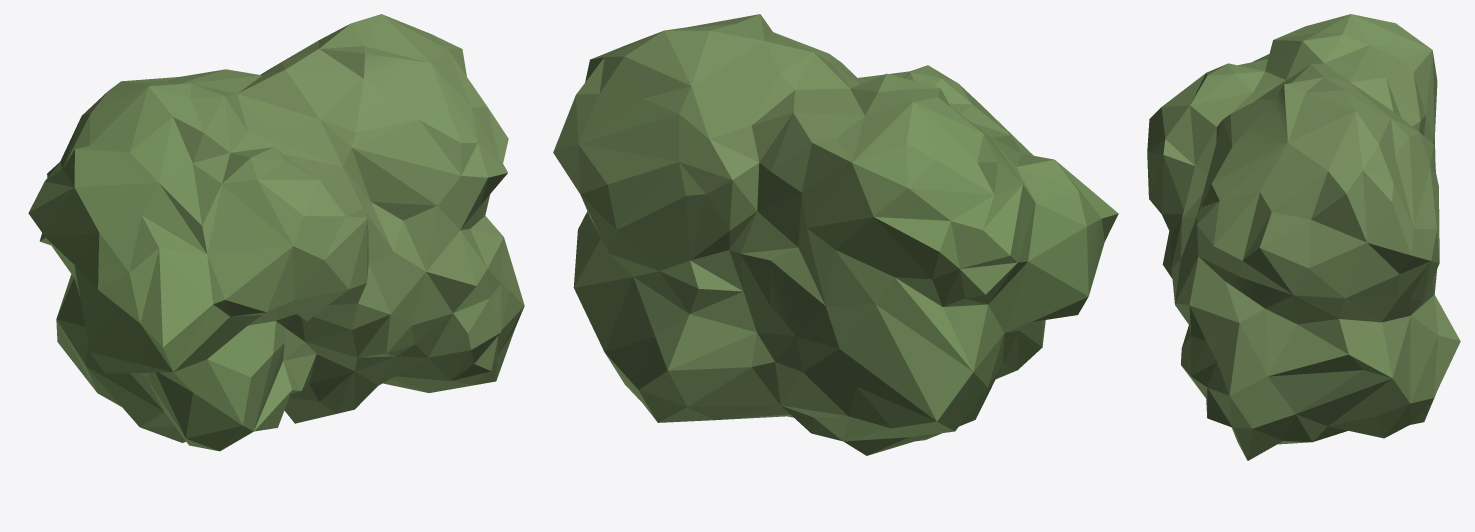
Rendered from elven_SM_Env_Hedge_Shrub_02.gltf.
The picture shows the model from 3 angles, left to right: view 1: azimuth 30°, elevation 25°; view 2: azimuth 150°, elevation 25°; view 3: azimuth 270°, elevation 25°; orthographic projection. The views are drawn at different scales.
Visible parts, largest first — view 1: SM_Env_Hedge_Shrub_02; view 2: SM_Env_Hedge_Shrub_02; view 3: SM_Env_Hedge_Shrub_02.
Part boxes in pixels (box(x1,y1,x2,y2)): SM_Env_Hedge_Shrub_02: box(28, 14, 524, 451); SM_Env_Hedge_Shrub_02: box(553, 14, 1118, 455); SM_Env_Hedge_Shrub_02: box(1147, 14, 1460, 460).
Bounding box in the file's own units: 1.71 × 1.59 × 1.09.
1 material, 1 textured.
